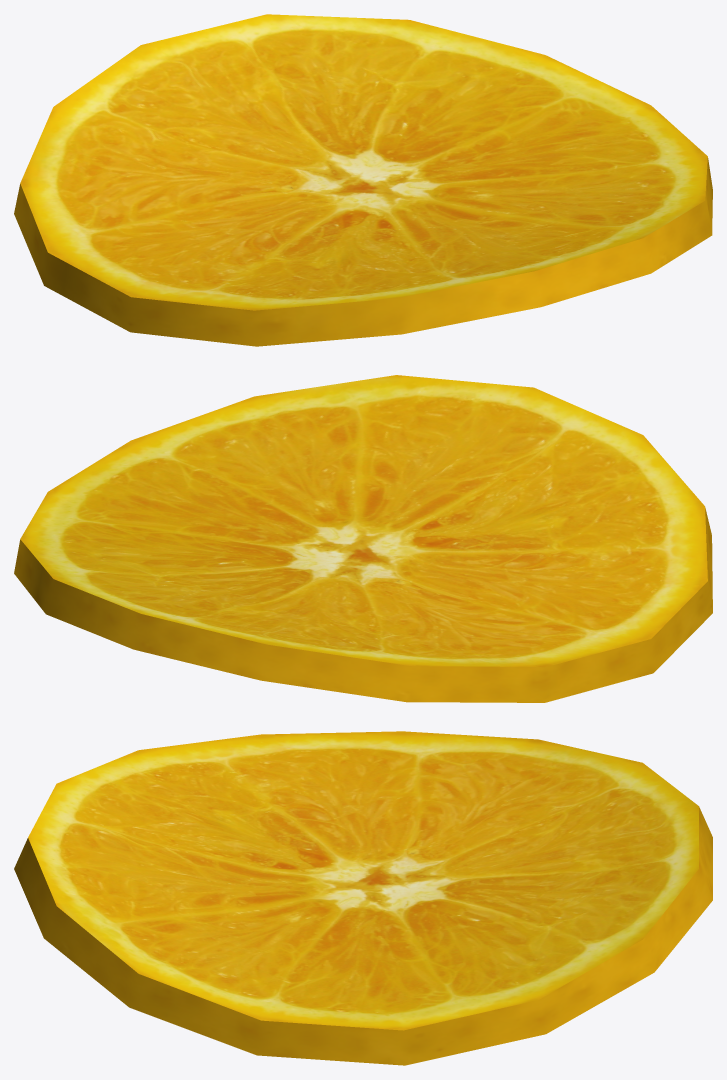
File: LemonSliceBentA.fbx
The picture shows the model from 3 angles, top to bottom: view 1: azimuth 30°, elevation 25°; view 2: azimuth 150°, elevation 25°; view 3: azimuth 270°, elevation 25°; orthographic projection.
Parts seen in each view (by area): view 1: Default_Layer; view 2: Default_Layer; view 3: Default_Layer.
Part boxes in pixels (x1,y1,x2,y2): Default_Layer: (14,14,712,346); Default_Layer: (14,375,712,702); Default_Layer: (14,731,712,1065).
Bounding box in the file's own units: 16.52 × 1.96 × 16.14.
